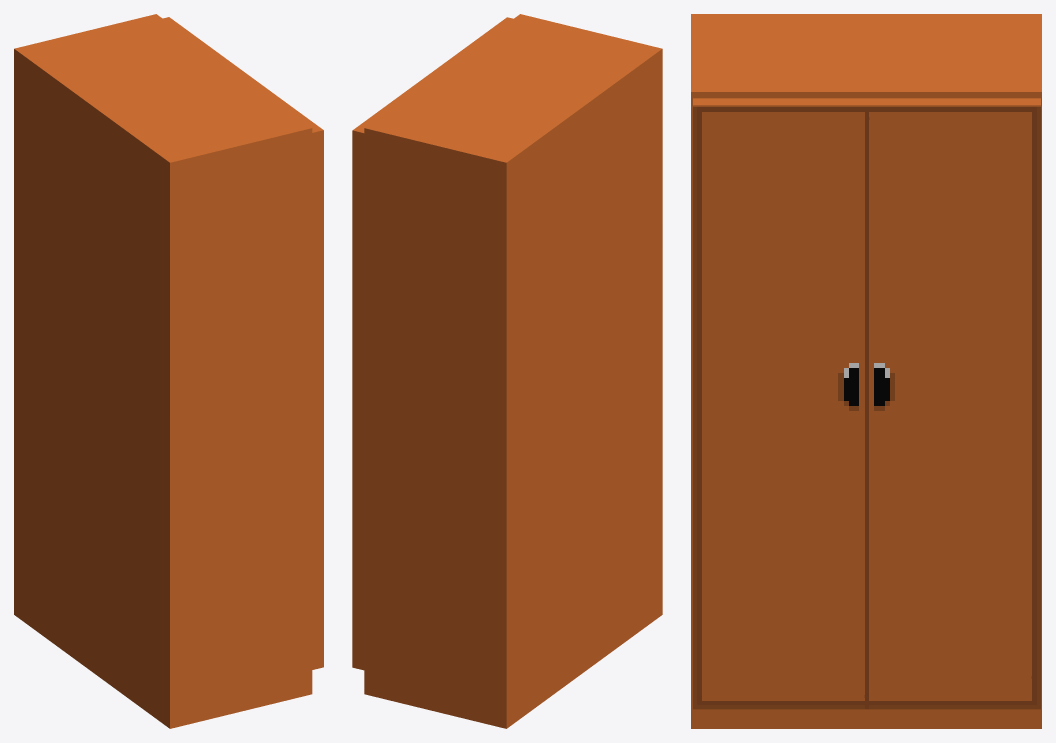
The model's file is cabinet.glb.
The picture shows the model from 3 angles, left to right: view 1: azimuth 30°, elevation 25°; view 2: azimuth 150°, elevation 25°; view 3: azimuth 270°, elevation 25°; orthographic projection. The views are drawn at different scales.
Parts seen in each view (by area): view 1: cabinet, door.001, door; view 2: cabinet, door, door.001; view 3: door, door.001, cabinet.
Part boxes in pixels (box(x1,y1,x2,y2)): cabinet: box(14, 14, 312, 728); door.001: box(240, 73, 323, 669); door: box(163, 17, 246, 75); cabinet: box(364, 14, 662, 728); door: box(352, 73, 436, 670); door.001: box(430, 17, 513, 74); door: box(865, 98, 1040, 709); door.001: box(693, 98, 868, 709); cabinet: box(691, 14, 1041, 728).
Size of the model in its own units: 1.14 by 4.01 by 2.
2 materials, 2 textured.
